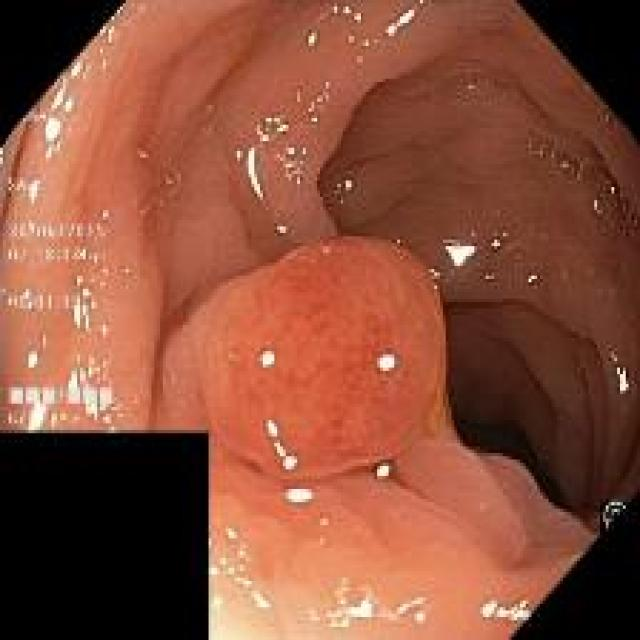Polyps: (189, 237, 451, 481)
